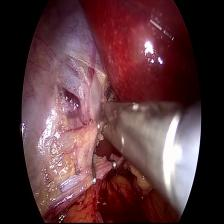Scissors: (102, 97, 141, 153)
